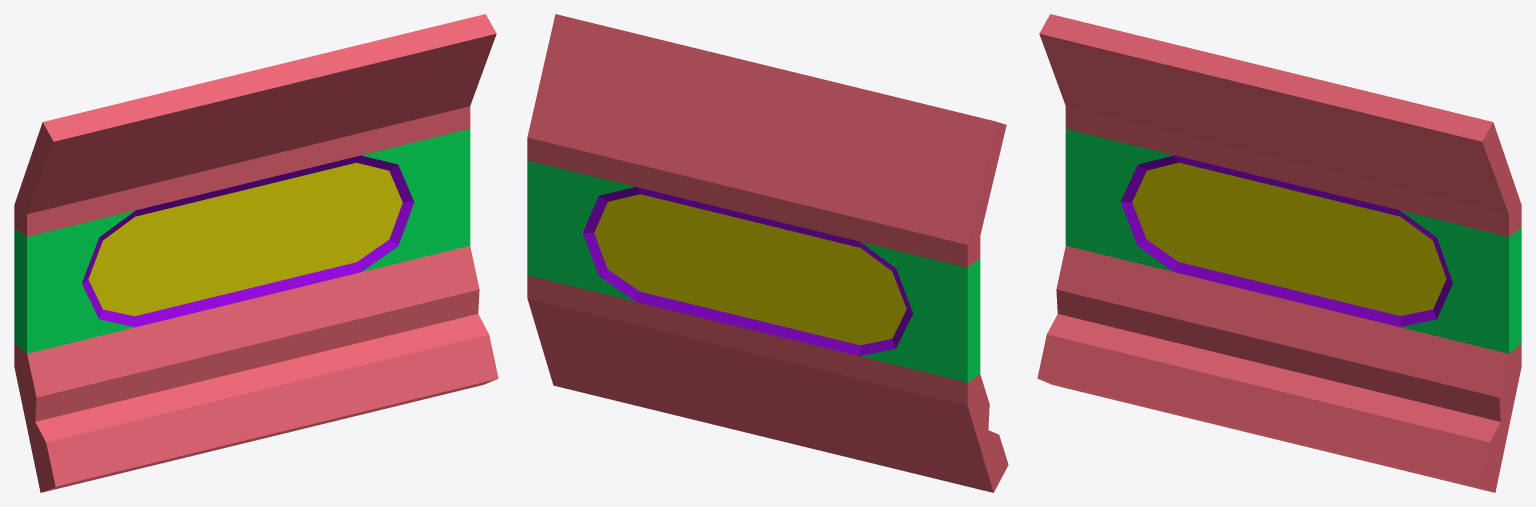
Rendered from decoration-corridor-window.fbx.
3 views of the same model, side by side, from view 1: azimuth 30°, elevation 25°; view 2: azimuth 150°, elevation 25°; view 3: azimuth 330°, elevation 25° (orthographic).
Parts seen in each view (by area): view 1: decoration-corridor-window; view 2: decoration-corridor-window; view 3: decoration-corridor-window.
Boxes of the visible parts, x1,y1,x2,y2 form: decoration-corridor-window: [14, 14, 498, 492]; decoration-corridor-window: [527, 14, 1008, 492]; decoration-corridor-window: [1037, 14, 1521, 492].
Bounding box in the file's own units: 4 × 3.21 × 0.6447.
